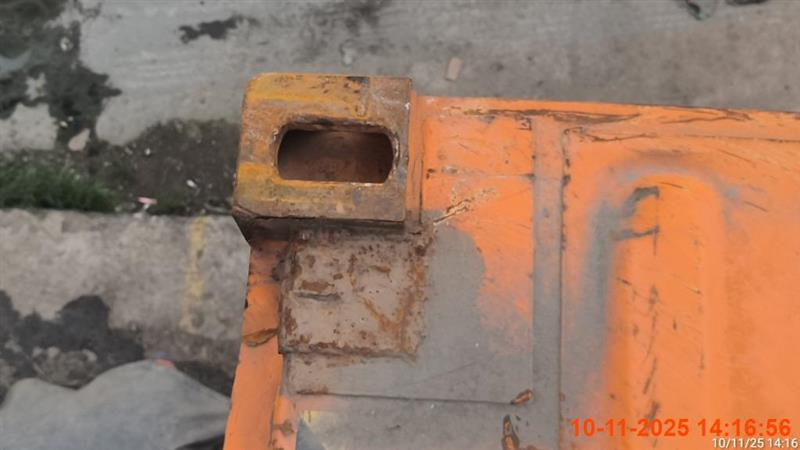bent: (222, 71, 798, 443)
